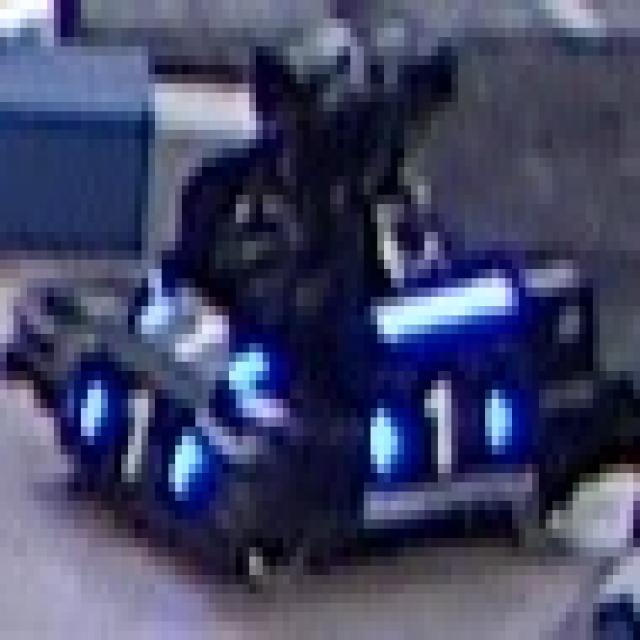B1: (74, 371, 222, 501), (357, 371, 512, 492), (128, 278, 276, 390)
